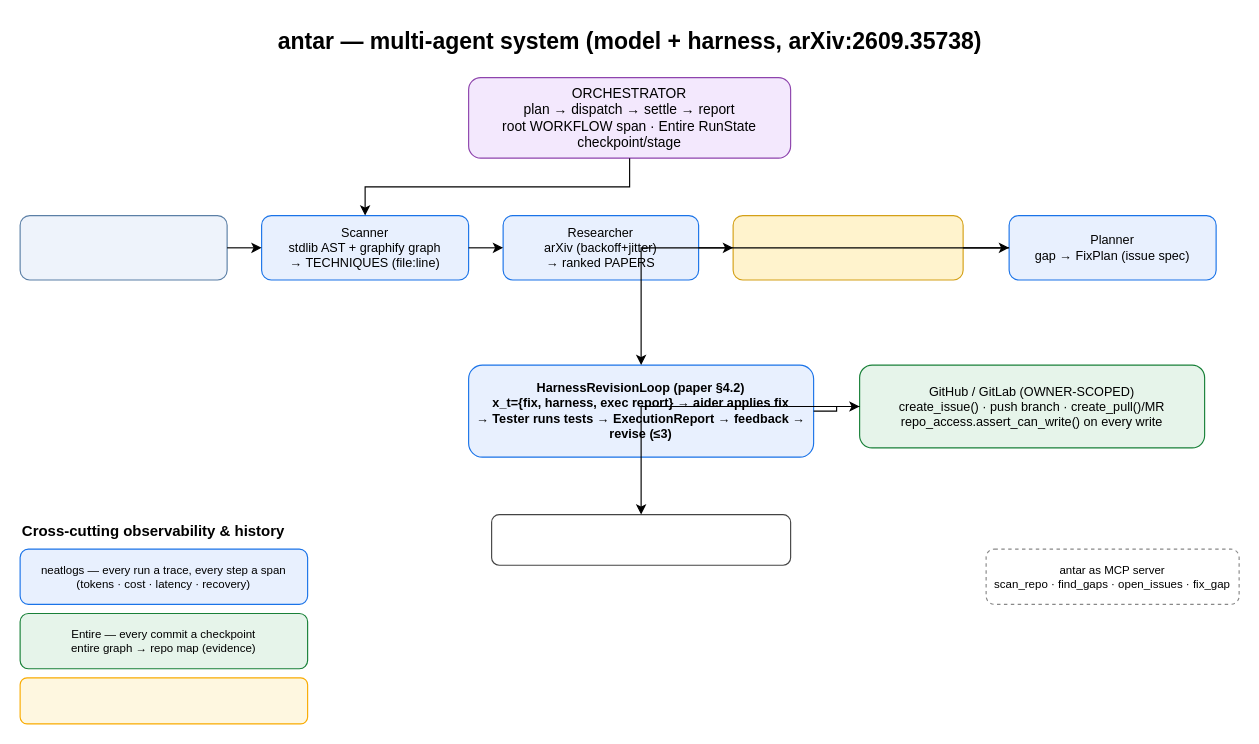
The diagram is 1259 pixels wide and 744 high, and some of its shapes have lost their labels. Here are the shapes that lost their labels. From the top down, the centre of each, then its label:
[123,247]: repo_intake clone GitHub/GitLab → workspace
[847,247]: Verifier (SOD) adversarially DISPROVE APPROVED / REJECTED / UNCERTAIN
[640,539]: GAPS.md · RELATED_WORK.md · ISSUE # · PR #
[163,700]: cfo.ai — traced token cost → pricing / margin / runway
